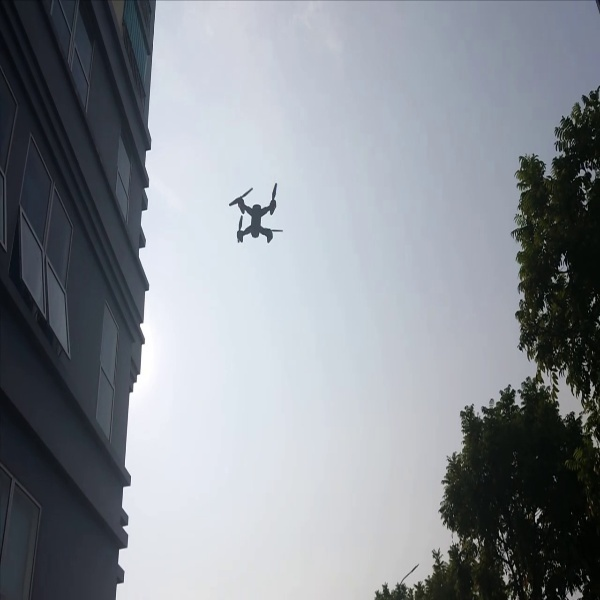drone: (220, 182, 292, 254)
